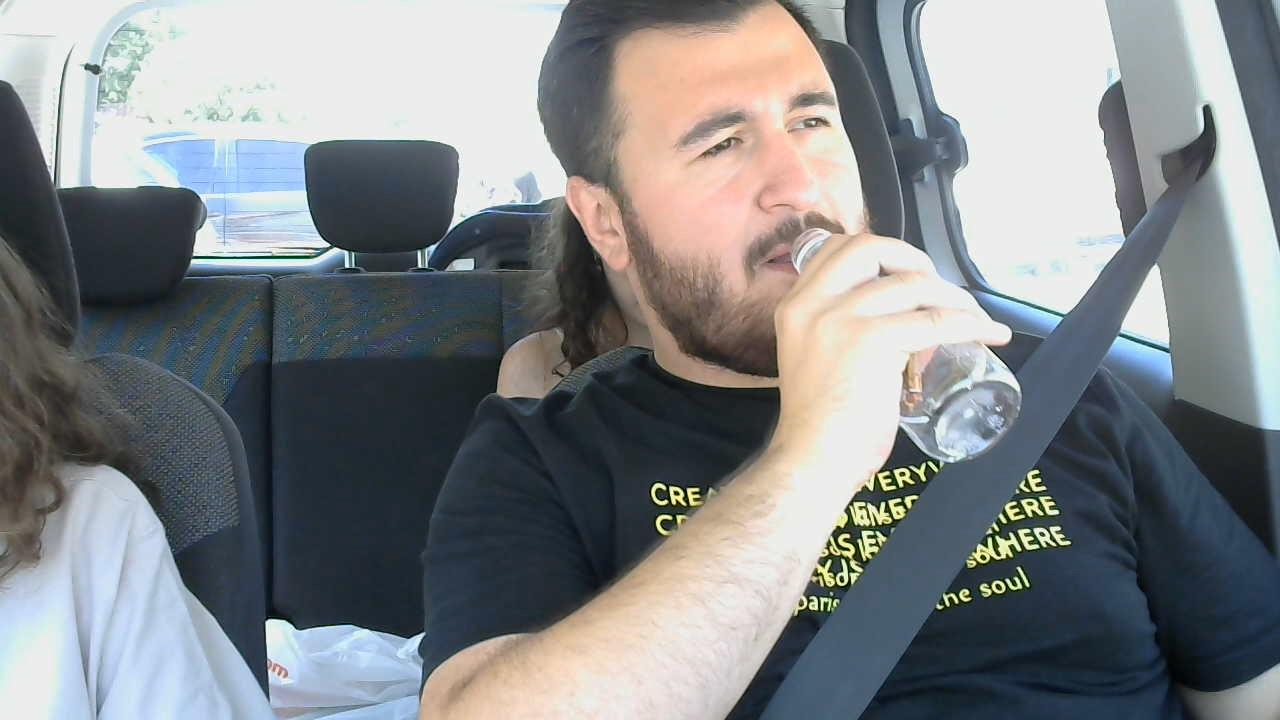Drinking: (563, 26, 1027, 468)
